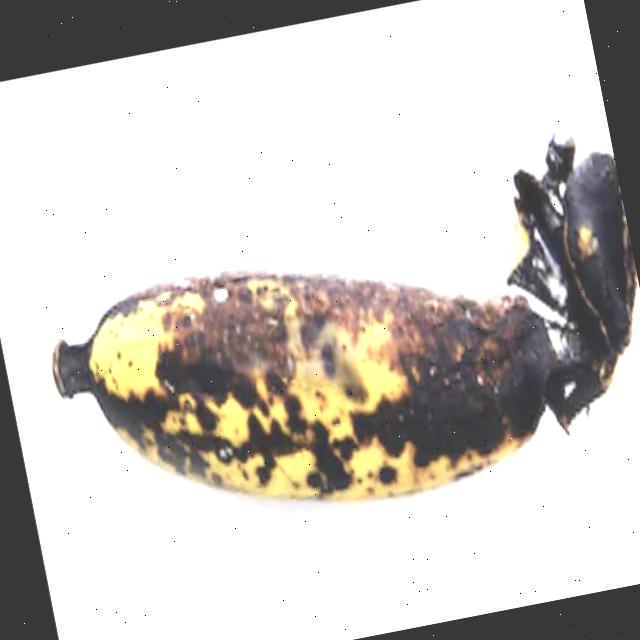Rotten: (7, 91, 640, 607)
